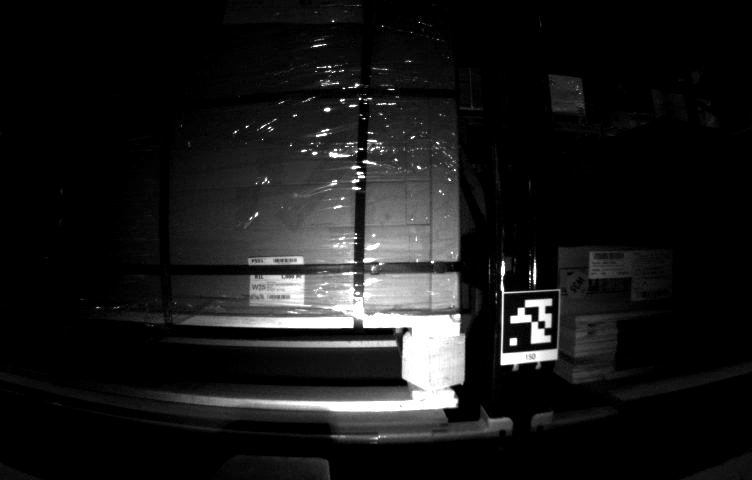True Barcode: (247, 258, 303, 303)
